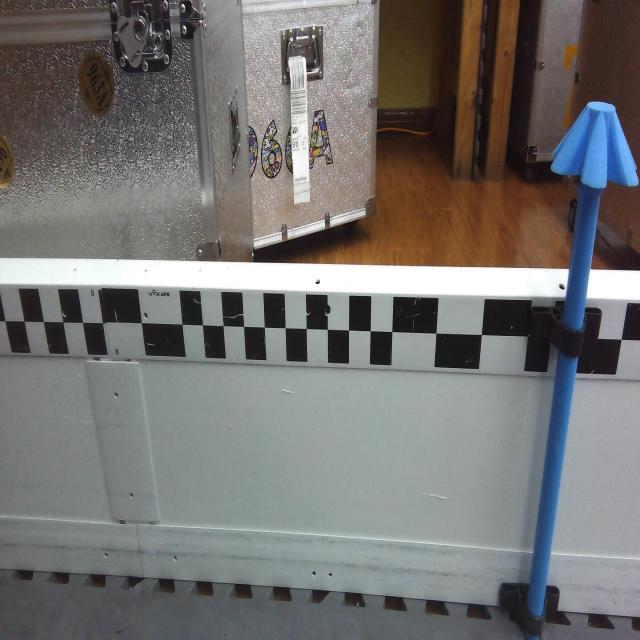zblue-Stake-Head: (550, 101, 638, 189)
